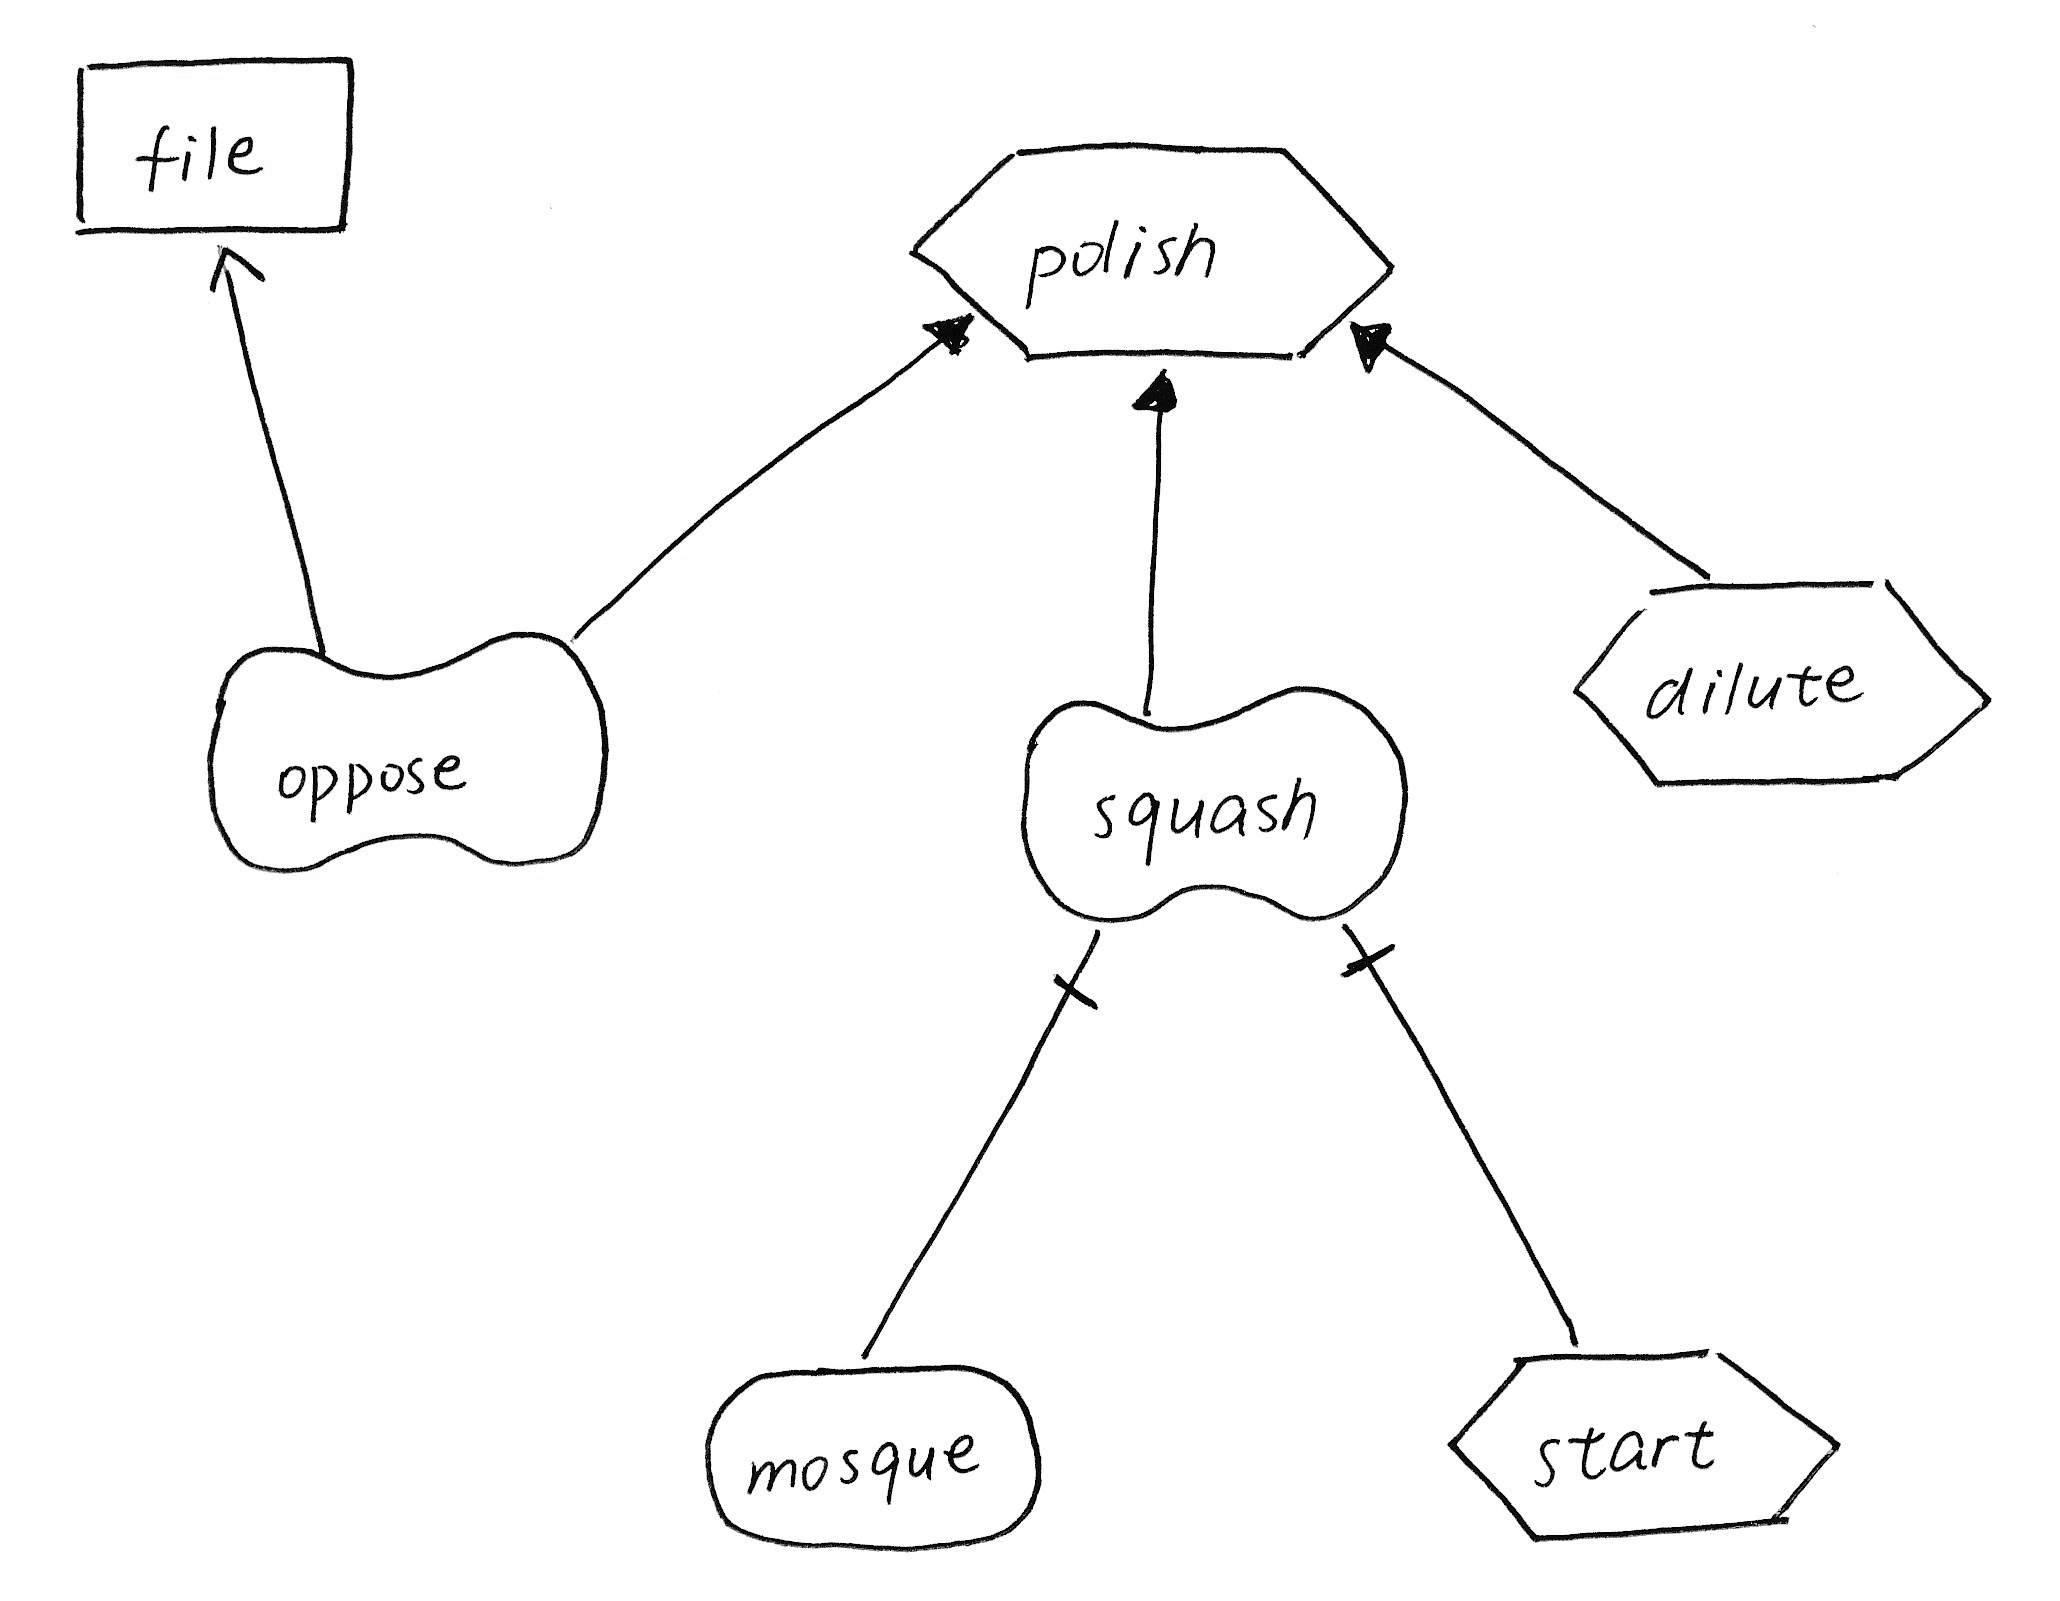and: (1324, 895, 1418, 994), (1043, 922, 1120, 1027)
arrow: (194, 236, 273, 303)
goal: (691, 1350, 1060, 1564)
or: (1338, 304, 1416, 385), (918, 293, 987, 378), (1119, 353, 1189, 428)
quality: (194, 611, 632, 890), (998, 678, 1433, 933)
resource: (47, 38, 375, 253)
task: (891, 122, 1410, 375), (1553, 560, 2015, 815), (1435, 1328, 1863, 1551)
